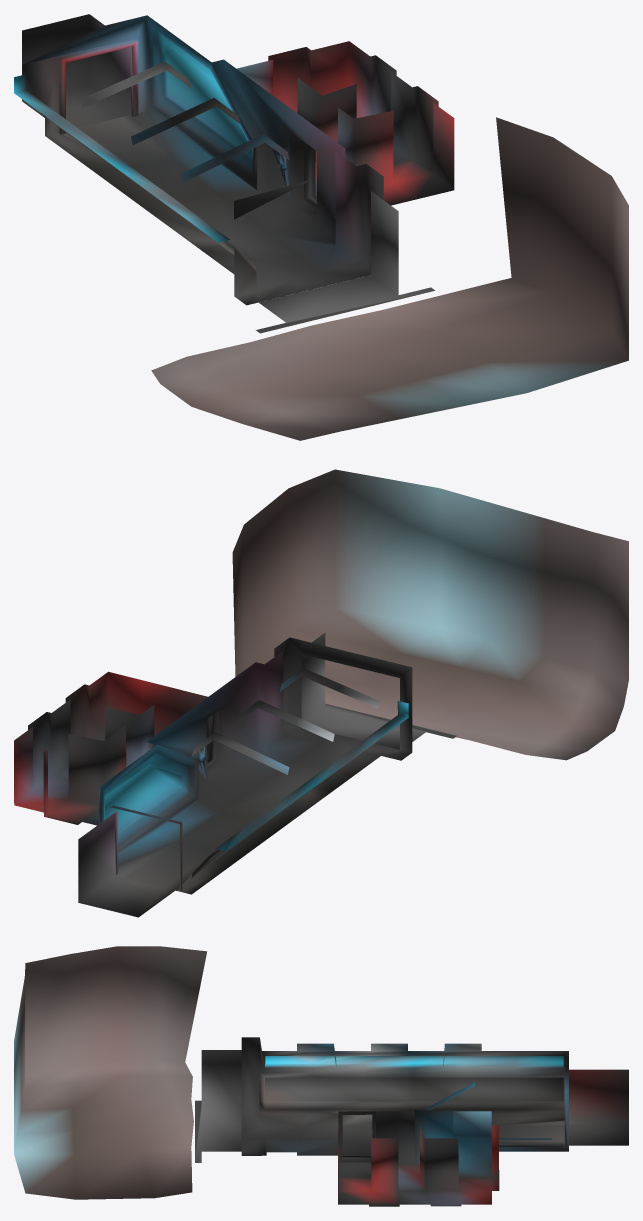
Rendered from inside_corridorA.glb.
The picture shows the model from 3 angles, top to bottom: view 1: azimuth 30°, elevation 25°; view 2: azimuth 150°, elevation 25°; view 3: azimuth 270°, elevation 25°; orthographic projection. The views are drawn at different scales.
Parts seen in each view (by area): view 1: Plane; view 2: Plane; view 3: Plane.
Part boxes in pixels (box(x1,y1,x2,y2)): Plane: box(14, 14, 628, 440); Plane: box(14, 469, 628, 917); Plane: box(14, 946, 628, 1206).
Size of the model in its own units: 18.41 by 6.5 by 31.94.
